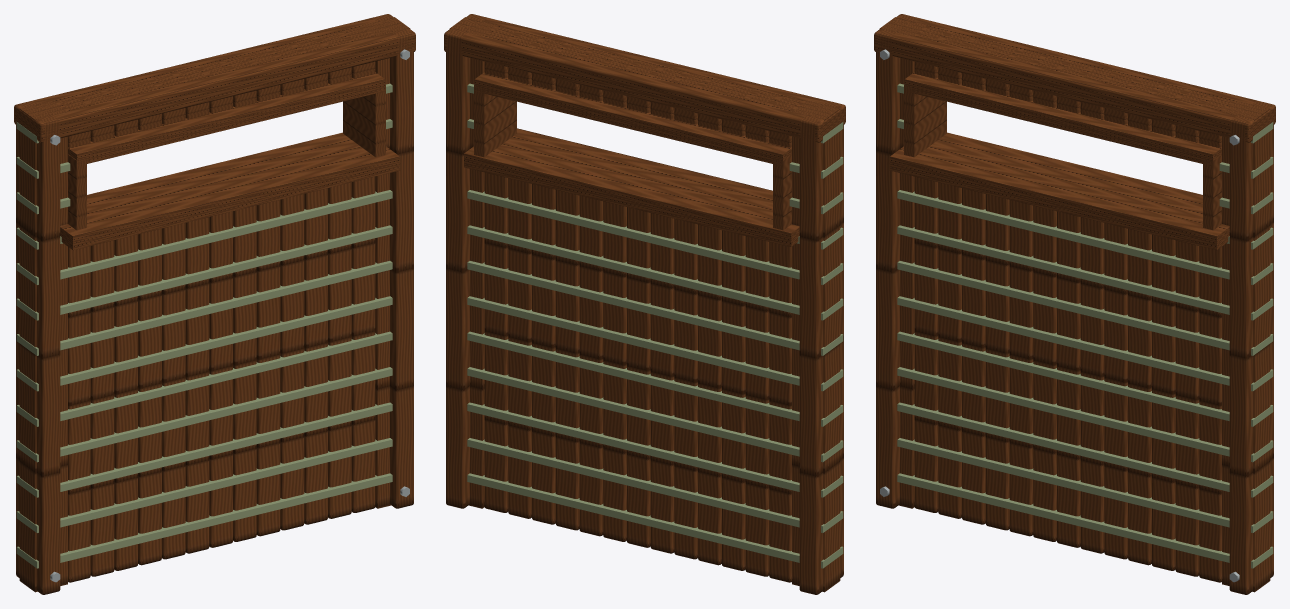
File: prehistoric-survivor-settlement-woven-high-vent-wall-f6c40fdc__23166.glb
3 views of the same model, side by side, from view 1: azimuth 30°, elevation 25°; view 2: azimuth 150°, elevation 25°; view 3: azimuth 330°, elevation 25° (orthographic).
Visible parts, largest first — view 1: woven-high-vent-wall; view 2: woven-high-vent-wall; view 3: woven-high-vent-wall.
Boxes of the visible parts, x1,y1,x2,y2 form: woven-high-vent-wall: (14,14,415,594); woven-high-vent-wall: (444,14,845,594); woven-high-vent-wall: (874,14,1275,594).
Bounding box in the file's own units: 2 × 2.4 × 0.3601.
3 materials, 1 textured.
